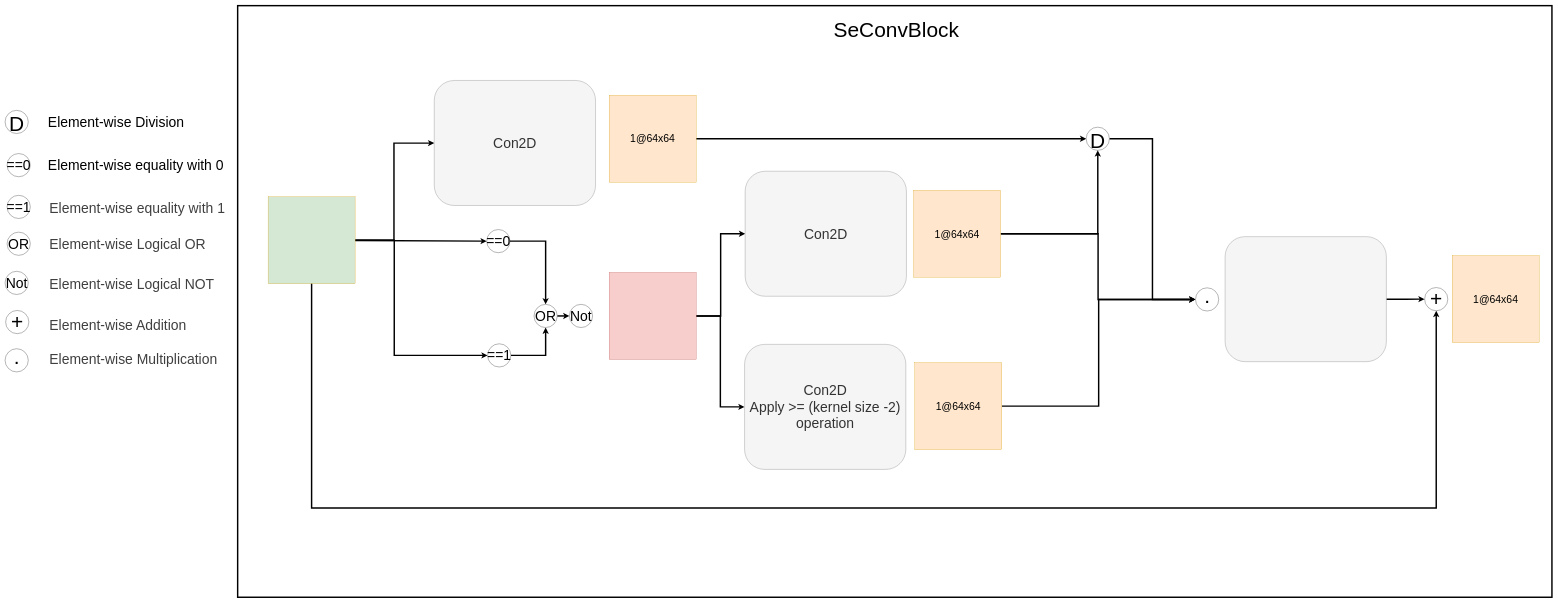
This 1558x603 diagram has some shape labels left out. Each missing label, with the centre of its shape:
Con2D + BarchNorm + Relu: point (1305, 299)
Input 1@64x64: point (311, 240)
Noise Map 1@64x64: point (652, 315)
